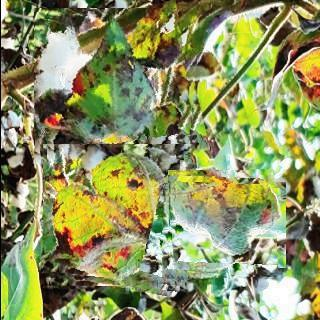blight: (33, 8, 201, 176), (42, 144, 190, 292), (167, 170, 276, 279)
